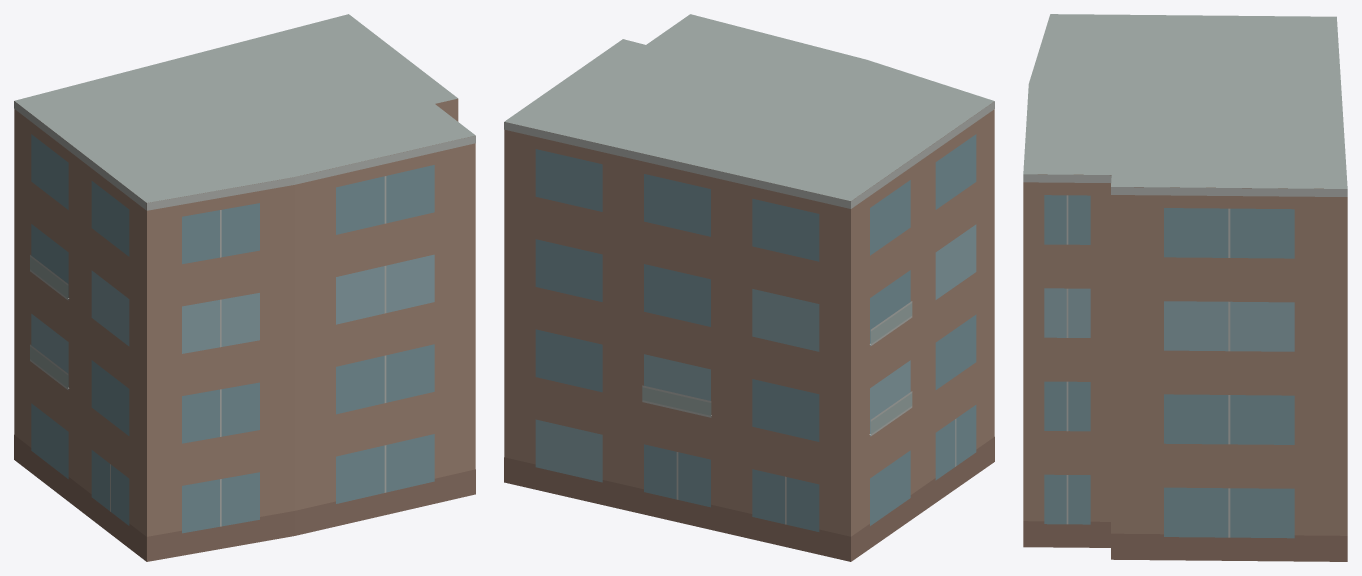
The model's file is survey-upis-32496516.glb.
3 views of the same model, side by side, from view 1: azimuth 30°, elevation 25°; view 2: azimuth 150°, elevation 25°; view 3: azimuth 270°, elevation 25° (orthographic). The views are drawn at different scales.
Parts seen in each view (by area): view 1: survey-upis-32496516.tmp; view 2: survey-upis-32496516.tmp; view 3: survey-upis-32496516.tmp.
Boxes of the visible parts, x1,y1,x2,y2 form: survey-upis-32496516.tmp: (14, 14, 475, 561); survey-upis-32496516.tmp: (504, 14, 994, 561); survey-upis-32496516.tmp: (1023, 14, 1347, 561).
Bounding box in the file's own units: 11.28 × 11.2 × 8.84.
